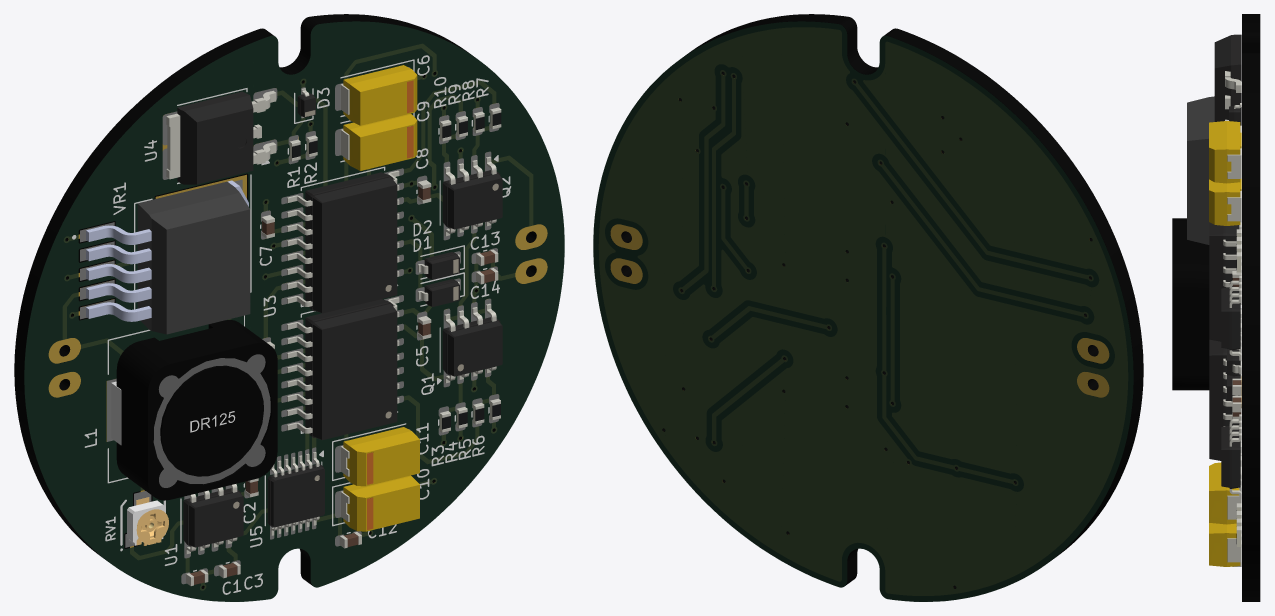
Rendered from wireless-charger.glb.
3 views of the same model, side by side, from view 1: azimuth 30°, elevation 25°; view 2: azimuth 150°, elevation 25°; view 3: azimuth 270°, elevation 25° (orthographic). The views are drawn at different scales.
Size of the model in its own units: 49.99 by 49.8 by 7.53.
